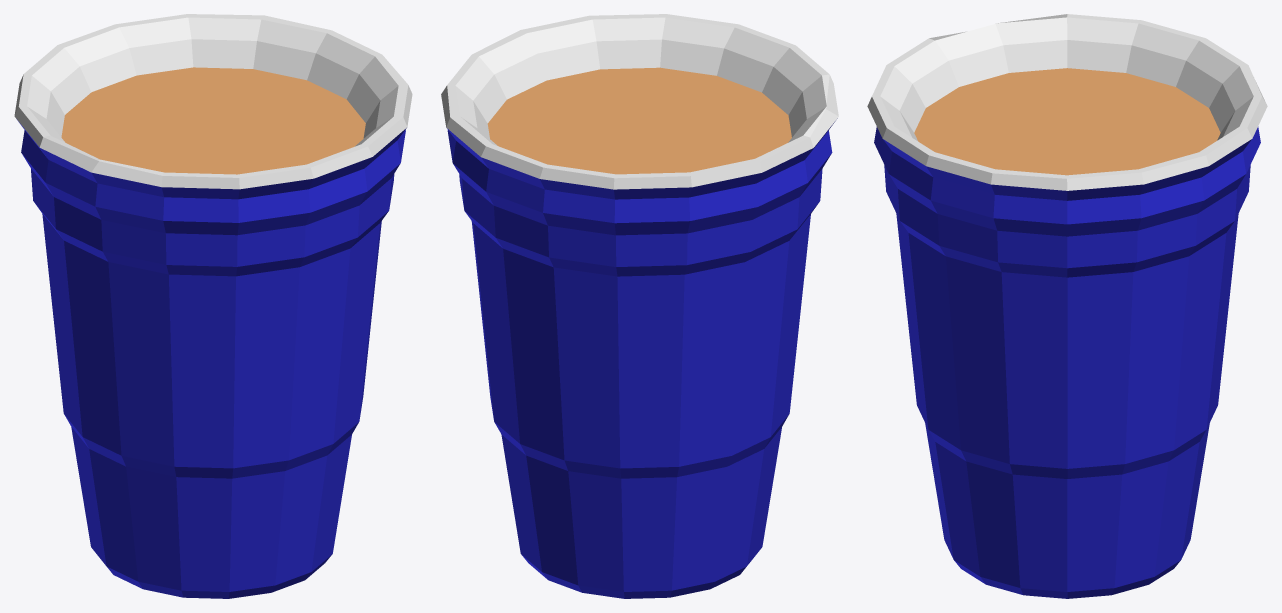
File: BlueCup.glb
3 views of the same model, side by side, from view 1: azimuth 30°, elevation 25°; view 2: azimuth 150°, elevation 25°; view 3: azimuth 270°, elevation 25° (orthographic).
Parts seen in each view (by area): view 1: Cup; view 2: Cup; view 3: Cup.
Boxes of the visible parts, x1,y1,x2,y2 form: Cup: [14, 14, 412, 598]; Cup: [441, 14, 838, 598]; Cup: [867, 14, 1267, 598].
Size of the model in its own units: 0.096 by 0.12 by 0.096.
